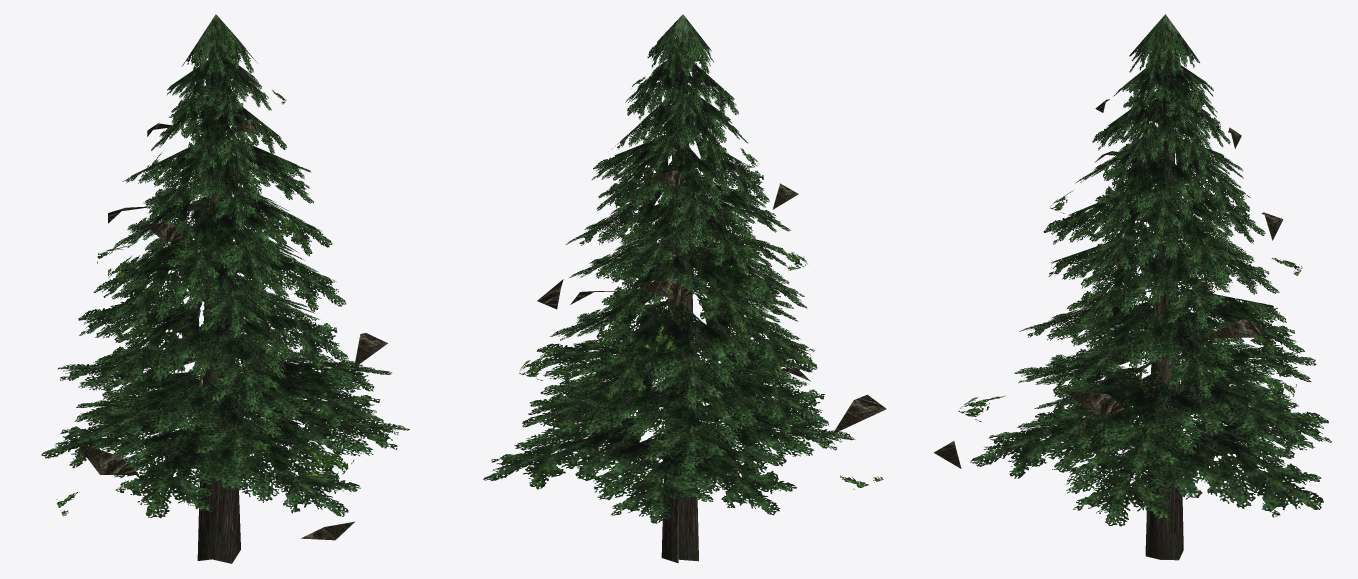
File: tree_pine_06.dae
3 views of the same model, side by side, from view 1: azimuth 30°, elevation 25°; view 2: azimuth 150°, elevation 25°; view 3: azimuth 270°, elevation 25° (orthographic).
Parts seen in each view (by area): view 1: Pine_02; view 2: Pine_02; view 3: Pine_02.
Part boxes in pixels (x1,y1,x2,y2): Pine_02: [41, 14, 409, 563]; Pine_02: [483, 14, 886, 563]; Pine_02: [934, 14, 1331, 560].
Size of the model in its own units: 21.27 by 29.43 by 20.26.
